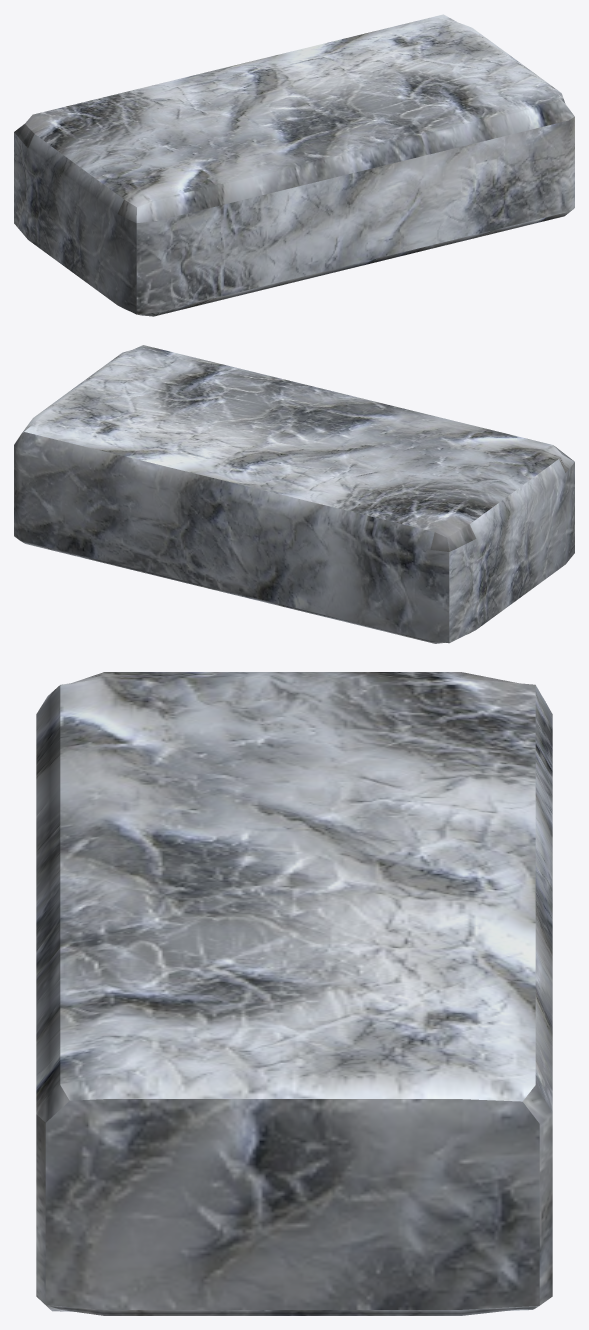
Rendered from platform_2.dae.
3 renders of one model, top to bottom at view 1: azimuth 30°, elevation 25°; view 2: azimuth 150°, elevation 25°; view 3: azimuth 270°, elevation 25°, orthographic. The views are drawn at different scales.
Parts seen in each view (by area): view 1: pCube1; view 2: pCube1; view 3: pCube1.
Boxes of the visible parts, x1,y1,x2,y2 form: pCube1: (14, 14, 574, 316); pCube1: (14, 345, 574, 643); pCube1: (36, 672, 552, 1315).
Bounding box in the file's own units: 2 × 0.5 × 1.
